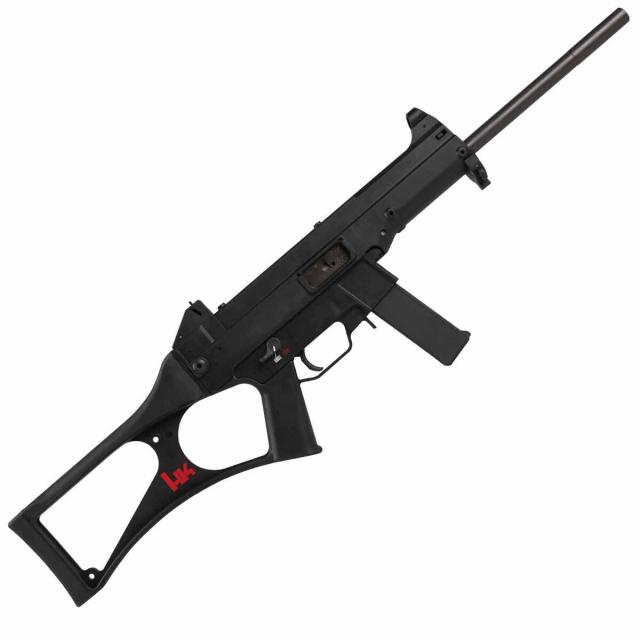SMG: (8, 9, 632, 609)
